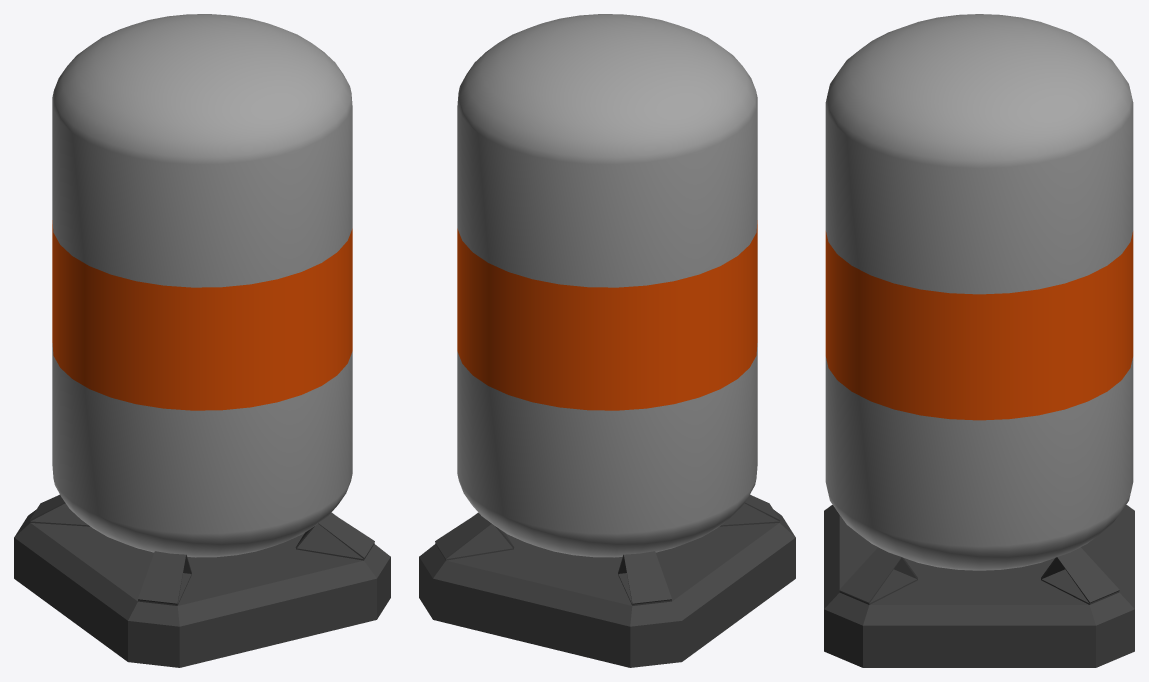
The model's file is homework_tank.fbx.
The picture shows the model from 3 angles, left to right: view 1: azimuth 30°, elevation 25°; view 2: azimuth 150°, elevation 25°; view 3: azimuth 270°, elevation 25°; orthographic projection. The views are drawn at different scales.
Visible parts, largest first — view 1: Tank; view 2: Tank; view 3: Tank.
Boxes of the visible parts, x1,y1,x2,y2 form: Tank: (14, 14, 390, 667); Tank: (419, 14, 795, 667); Tank: (824, 14, 1134, 667).
Size of the model in its own units: 200 by 399 by 200.
